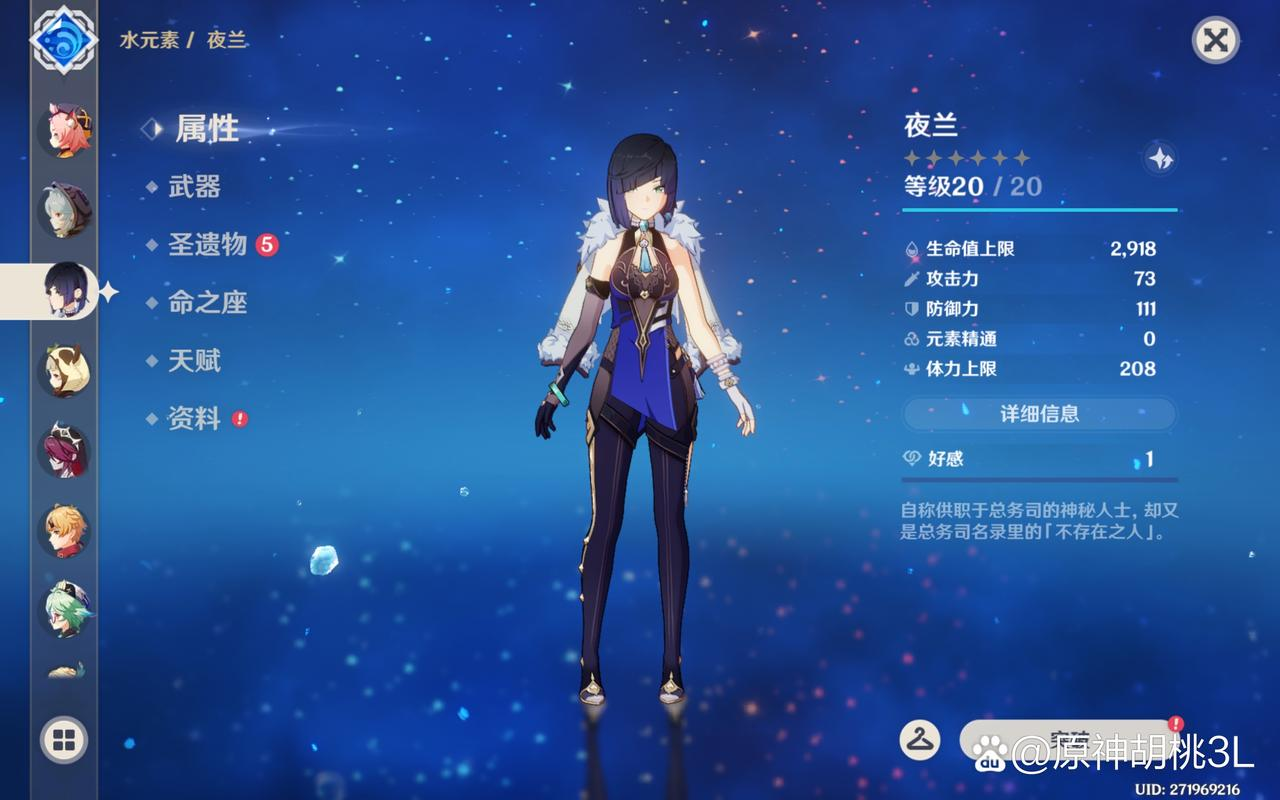夜兰: (530, 126, 754, 716)
